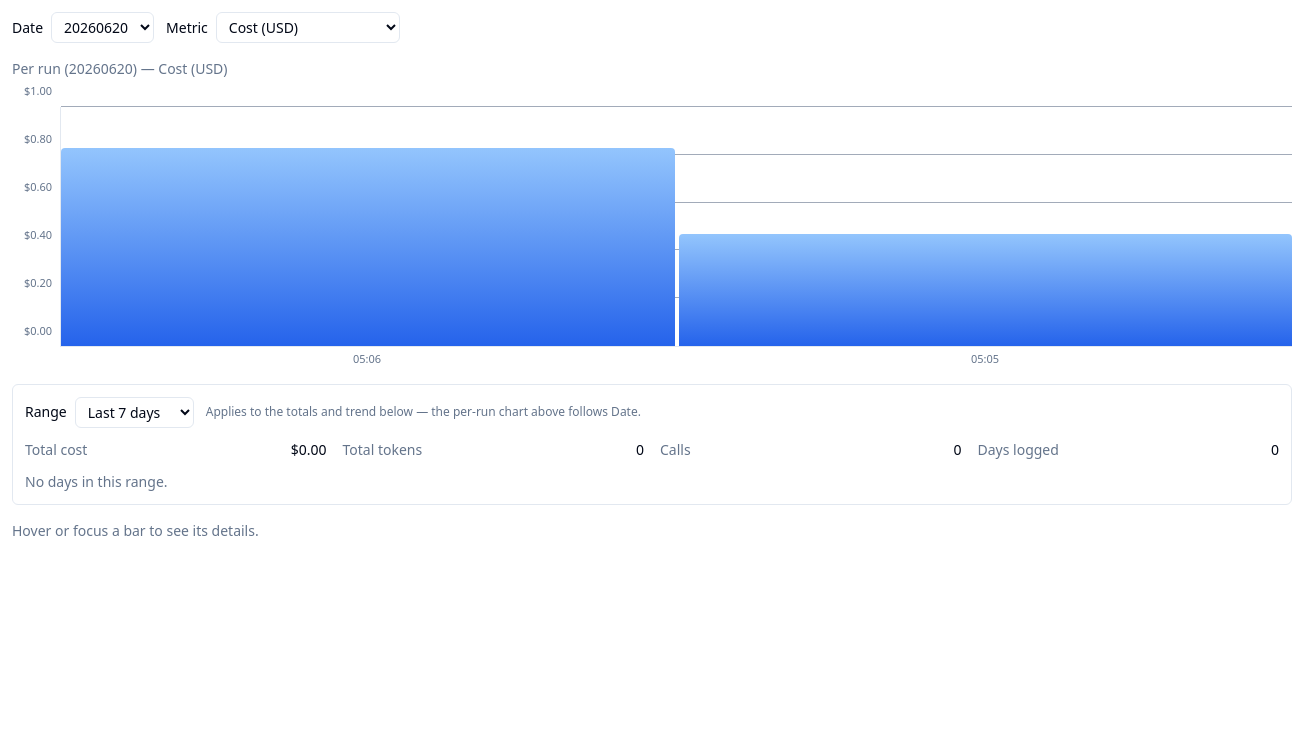
Test: UsageDashboard › renders cost axis ticks as currency and token ticks without a unit
Expected: the text with test id "usage-y-tick-0.2" reads "$0.20", [24,274,52,289]
Select "Input tokens" in the dropdown with test id "usage-metric-select" at (308, 28), box [216,12,400,43]
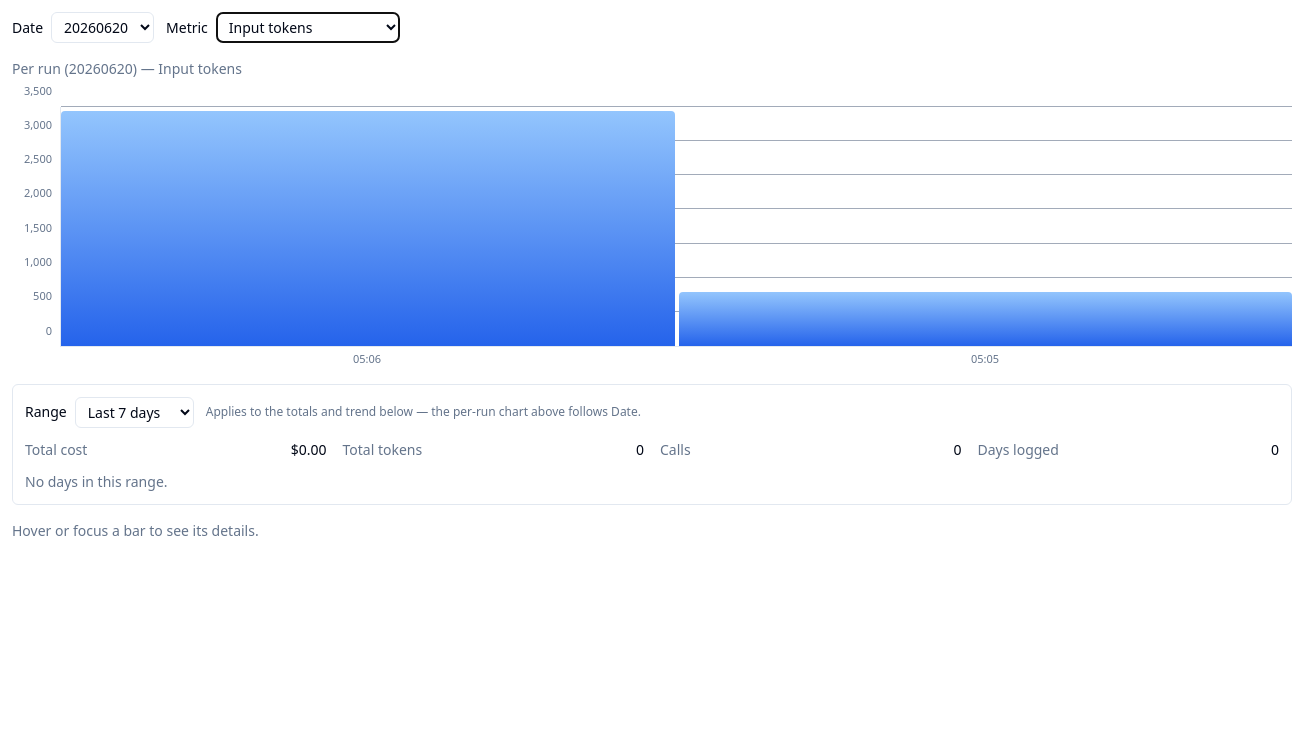
Expected: the element with test id "usage-y-tick-1000" does not show "$"
Now the text with test id "usage-y-tick-1000" reads "1,000", box [24,254,52,269]
